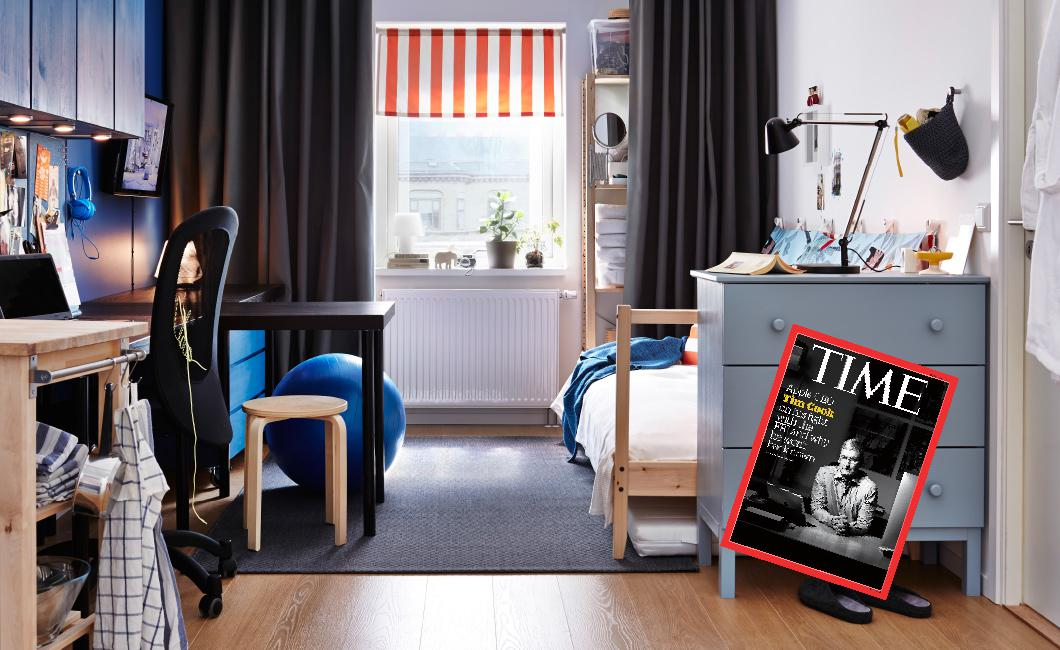times: (705, 322, 955, 604)
